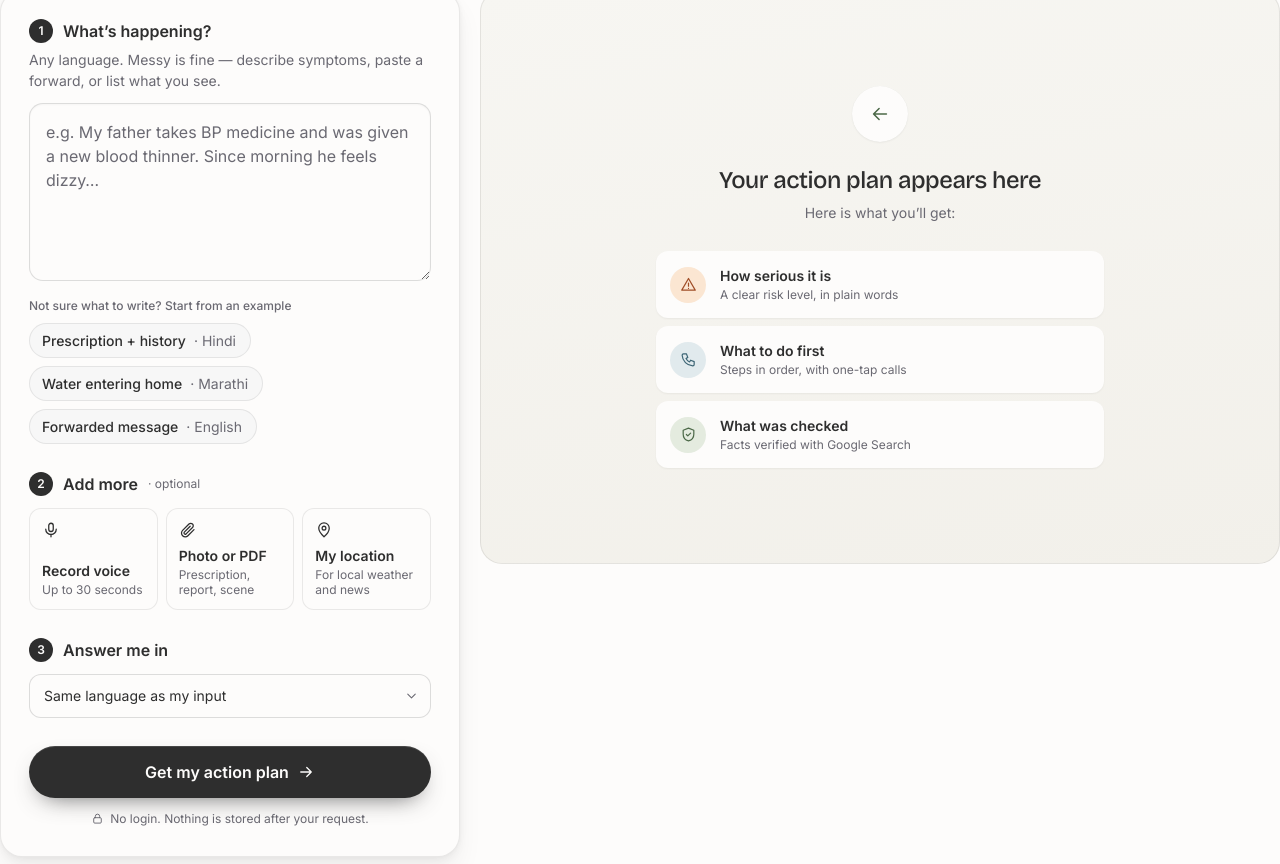
Test case: Workspace › adds the location when allowed and explains when it is not
Click the button "My location For local weather and news" at (367, 559), box [302, 508, 431, 610]
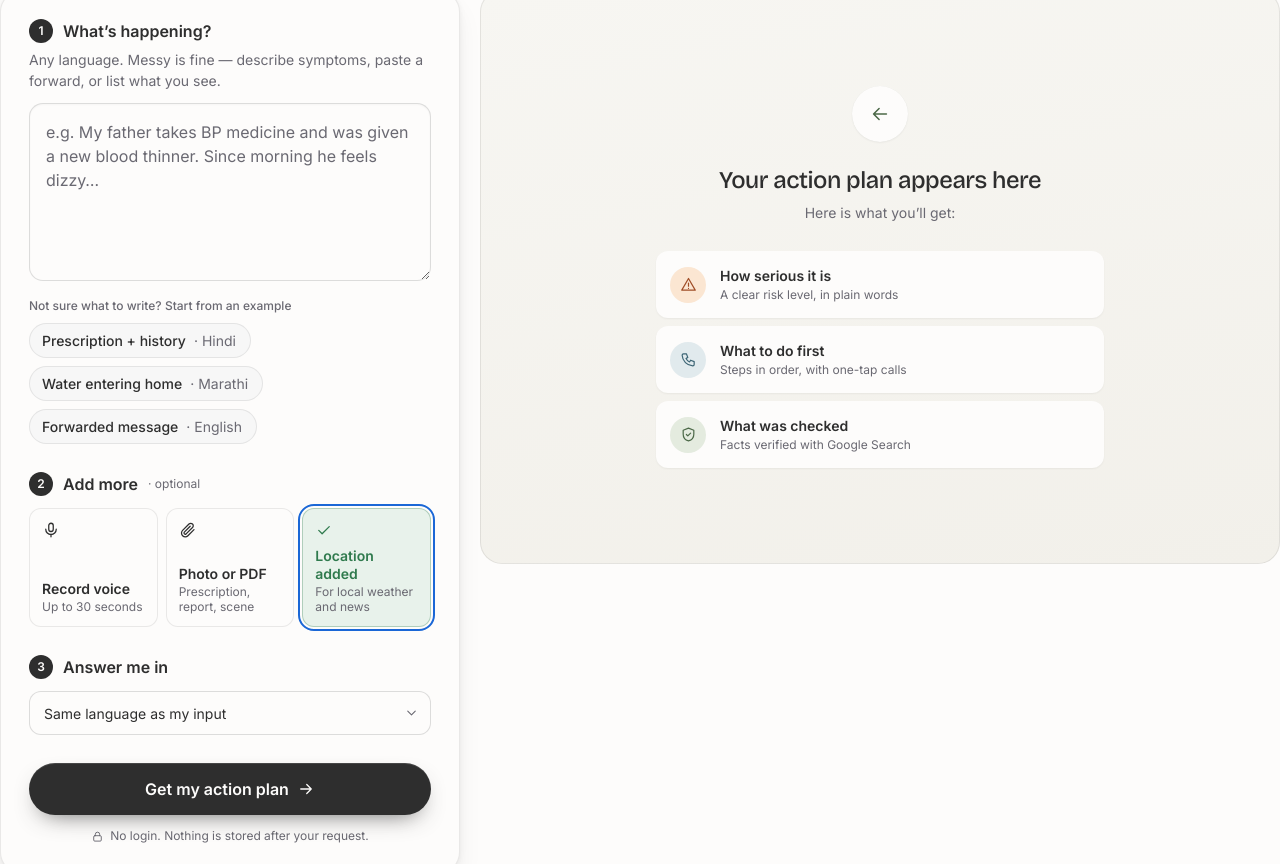
Expected: the button "Location added For local weather and news" is pressed, [302, 508, 431, 627]
Type "flooding" into the text box labelled "What’s happening?" at (230, 192), box [29, 103, 431, 281]
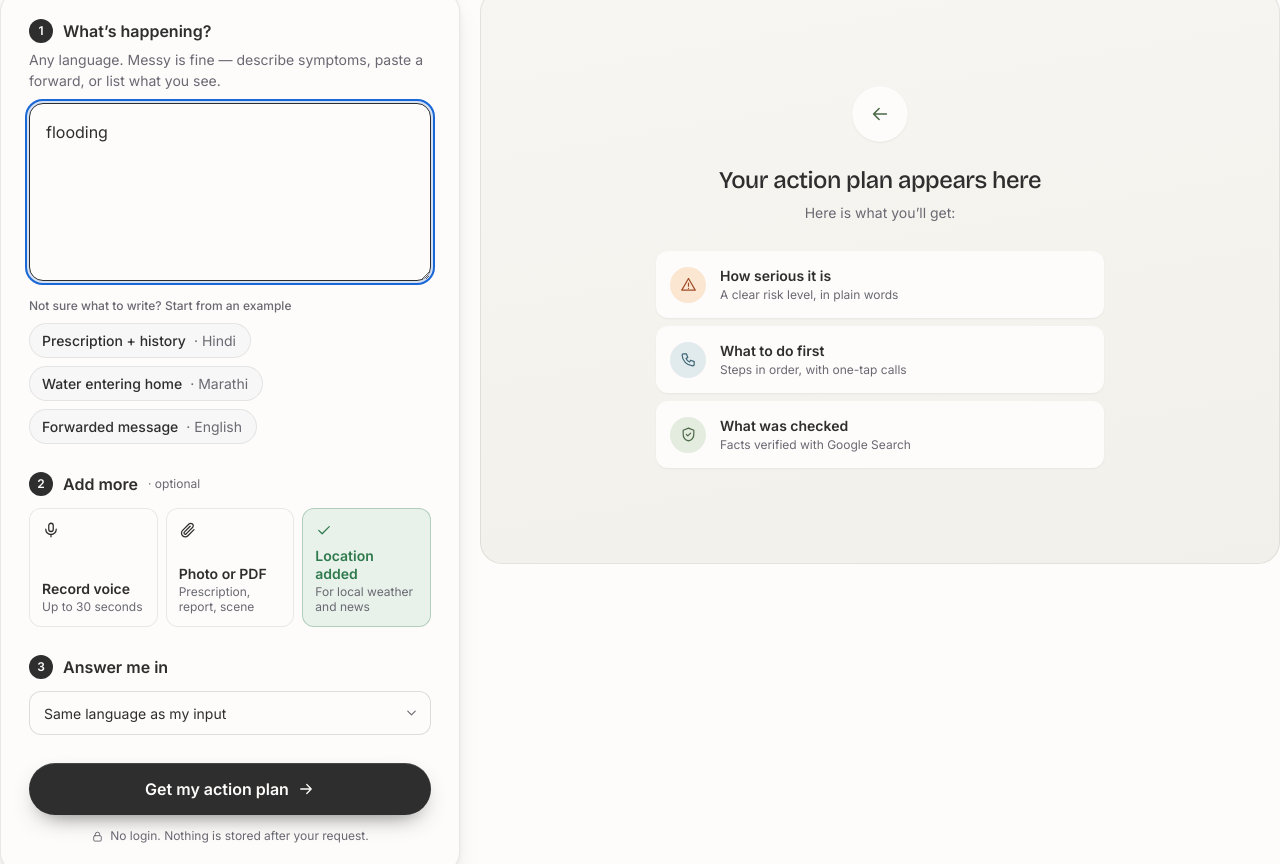
Click the button "Get my action plan" at (230, 789), box [29, 763, 431, 815]
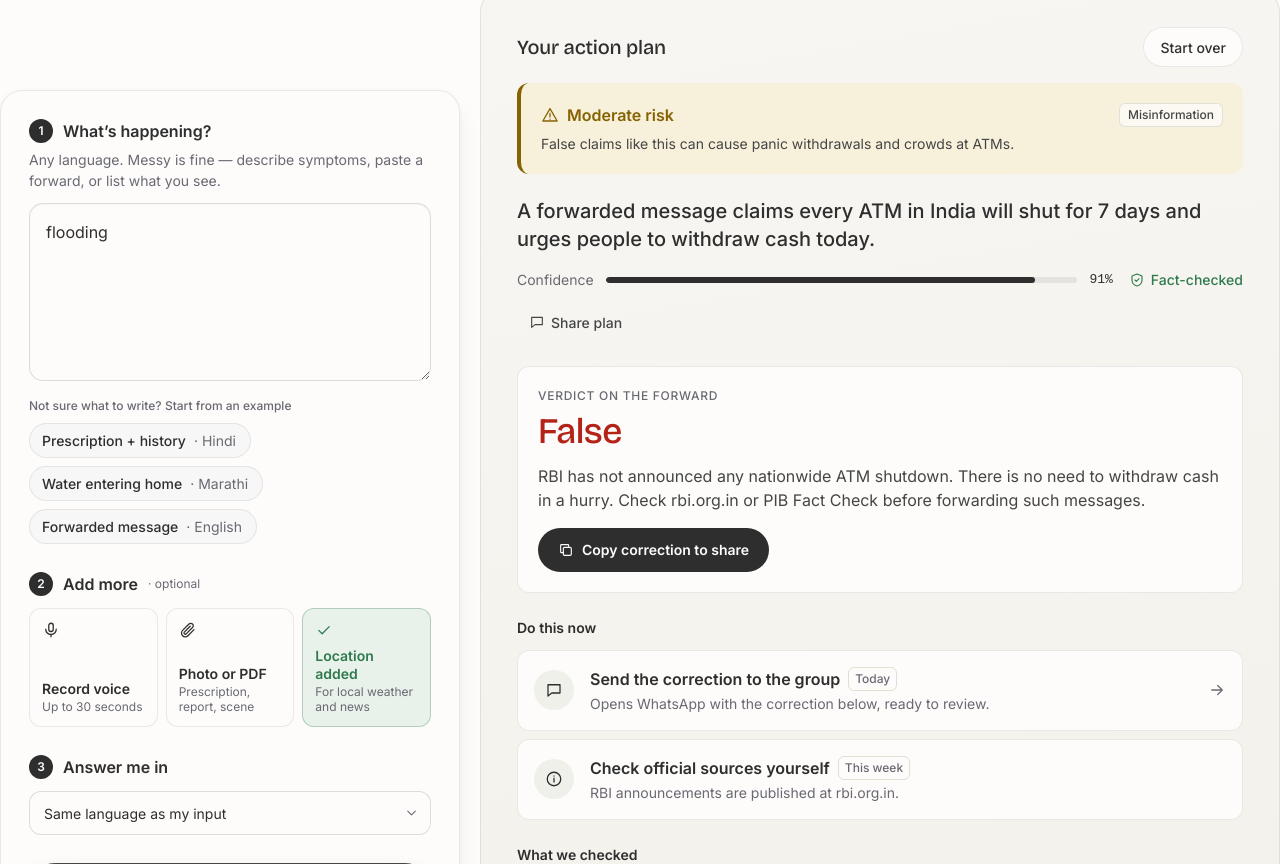
Click the button "Location added For local weather and news" at (367, 668), box [302, 608, 431, 727]
(page scrolled)
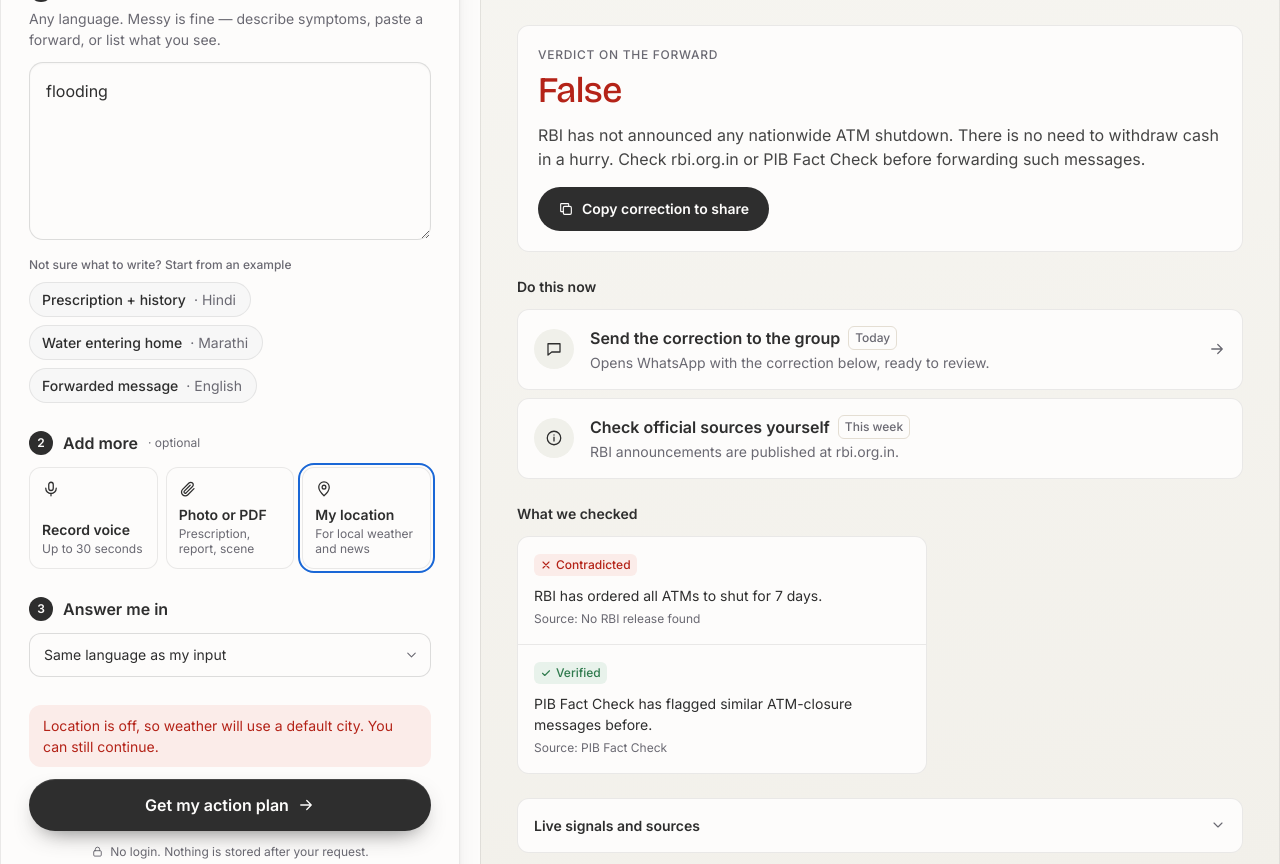
Expected: the message shows "Location is off", [43, 717, 393, 755]
